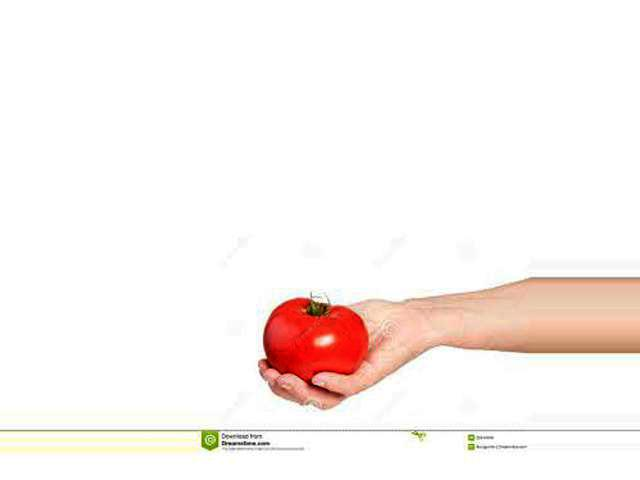tomato: (263, 297, 369, 384)
